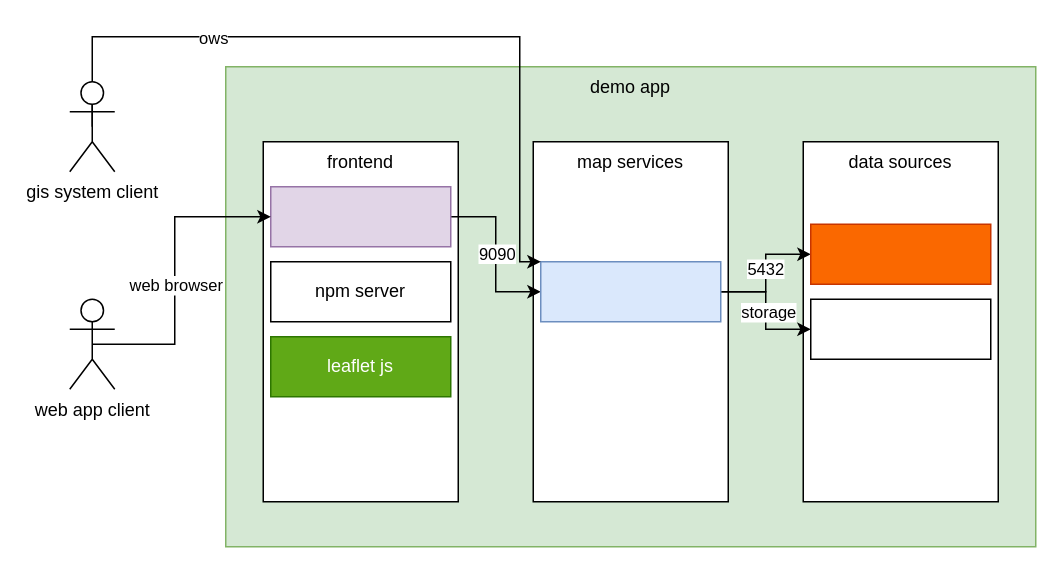
The diagram is 1062 pixels wide and 573 high, and some of its shapes have lost their labels. Here are the shapes that lost their labels. From the top down, the centre of each, then its label:
[360,216]: react app
[900,253]: popstgis
[630,291]: geoserwer
[900,328]: gpkg, fgb files
